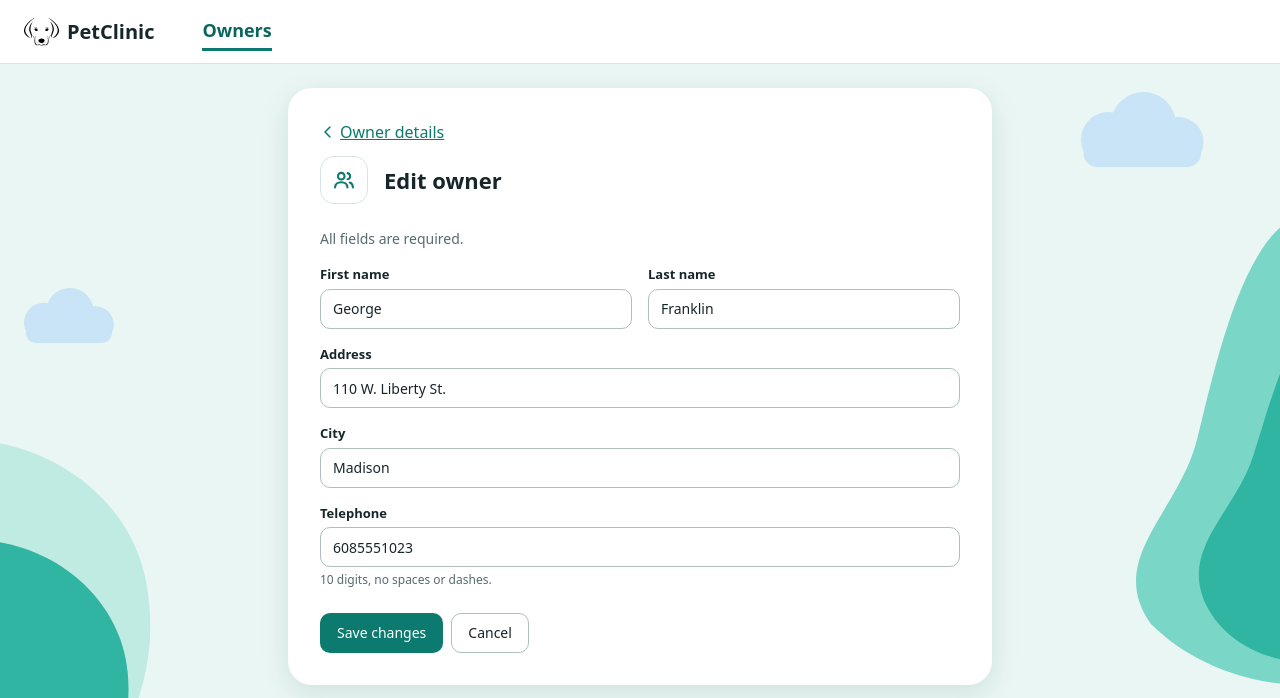
EditOwnerPage › says the user may not make the change when the server answers 403
Click the button "Save changes".
click(382, 633)  # box [320,613,443,653]
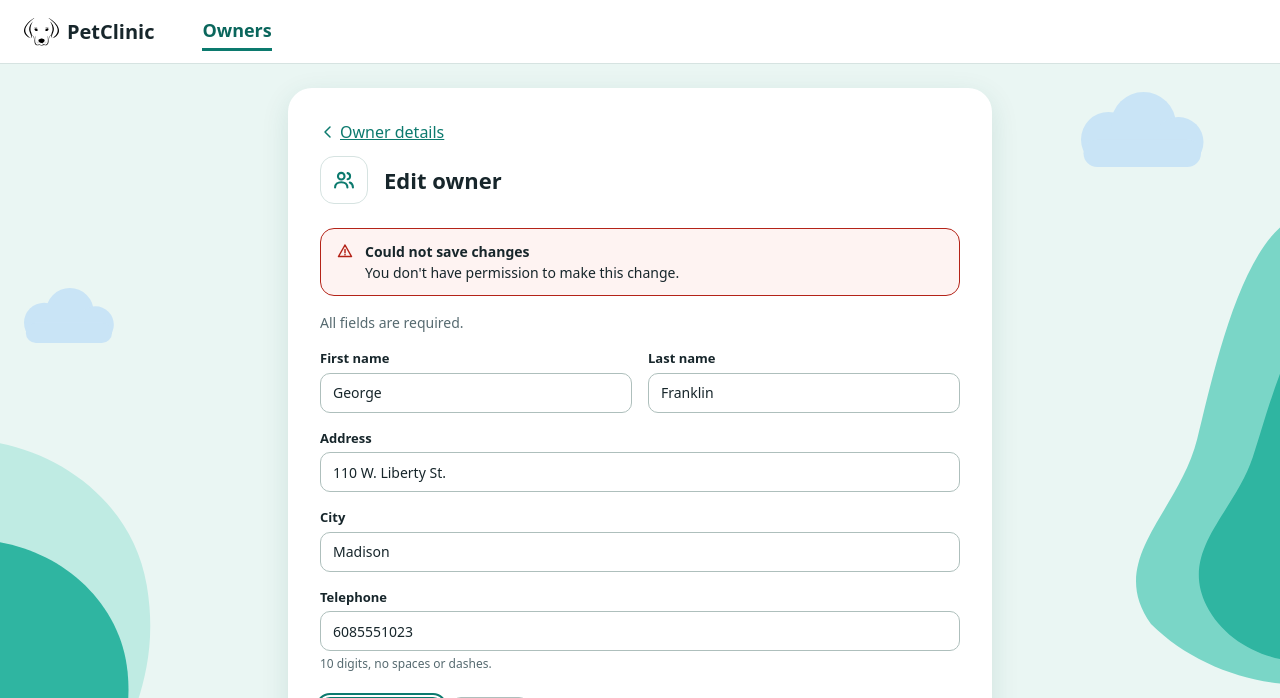
Now the message shows "You don't have permission to make this change.", box [365,263,679,282]
